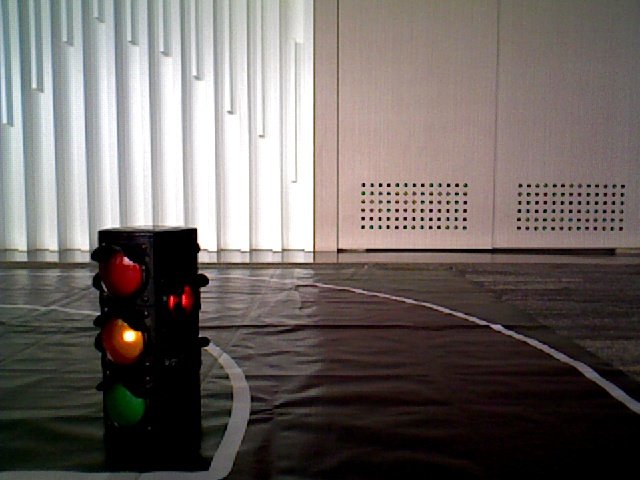yellow: (97, 237, 165, 436)
